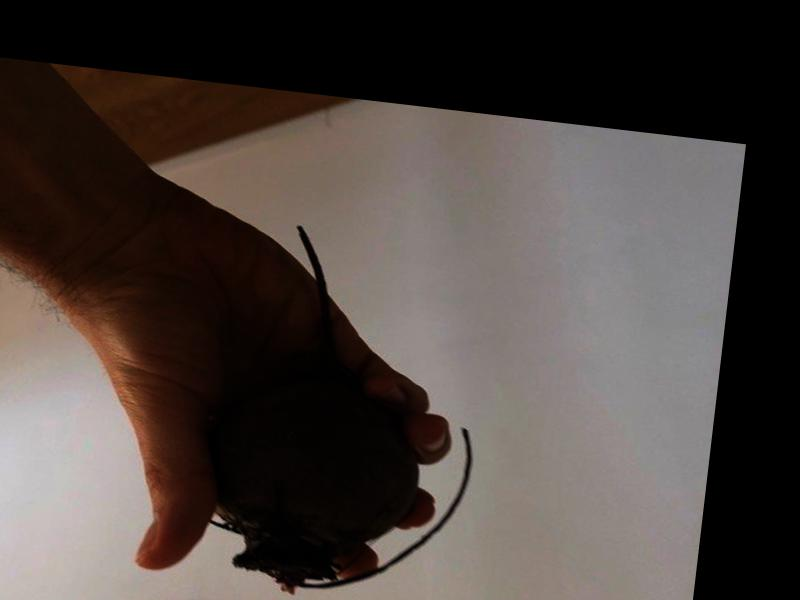Beet: (199, 220, 498, 600)
